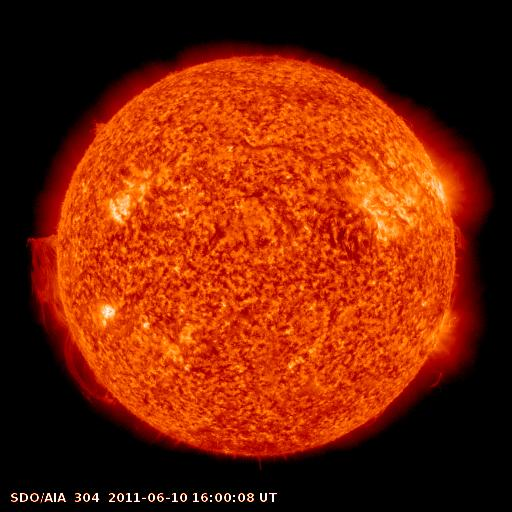prominence: (23, 229, 126, 410), (443, 214, 470, 286), (82, 110, 124, 148), (417, 355, 456, 392)
